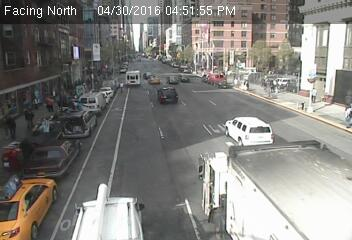neg: (248, 89, 264, 110), (92, 183, 107, 204), (158, 22, 173, 41), (129, 112, 143, 131), (183, 177, 197, 196), (214, 175, 227, 193), (227, 33, 240, 50), (258, 19, 271, 36), (174, 92, 187, 108), (266, 140, 278, 157), (84, 123, 96, 139), (296, 2, 307, 17), (119, 32, 129, 46), (201, 9, 211, 22), (224, 111, 234, 124), (249, 61, 258, 74), (88, 61, 97, 73), (273, 29, 282, 41), (295, 40, 304, 52), (189, 43, 198, 54), (168, 53, 176, 63), (146, 52, 153, 61)
pos: (334, 100, 351, 136), (34, 88, 54, 115), (18, 106, 35, 129), (30, 92, 44, 111), (116, 78, 127, 94)
